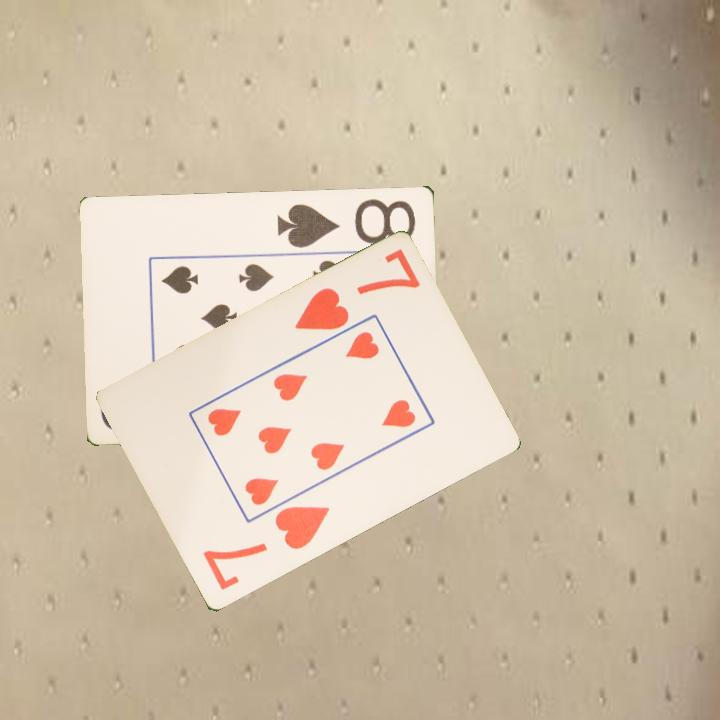7h: (199, 503, 333, 594), (291, 245, 423, 334)
8s: (273, 195, 419, 250)
